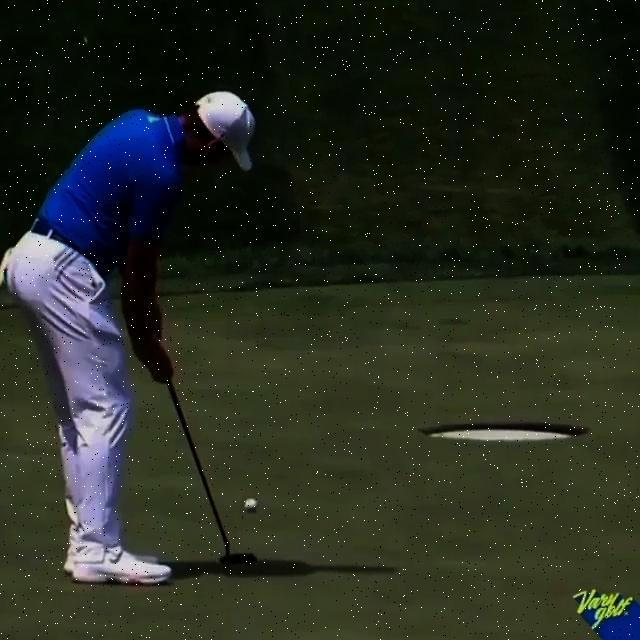ClubHandle: (166, 381, 257, 564)
ClubHead: (219, 553, 257, 564)
GolfBall: (244, 497, 257, 510)
